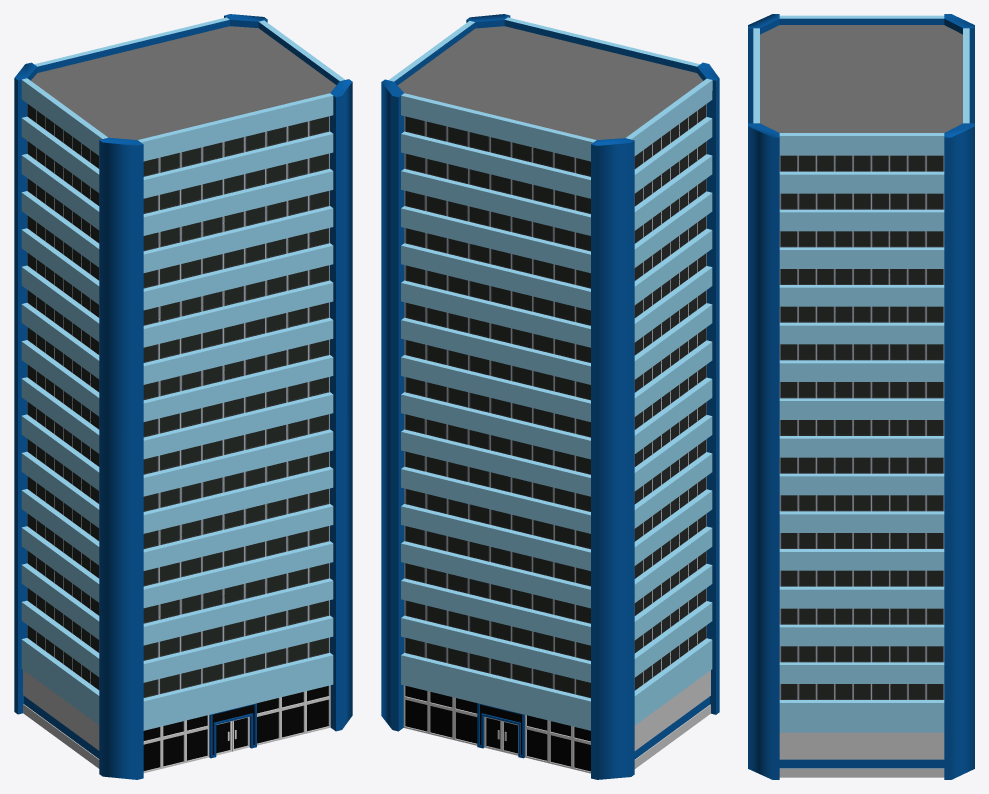
The picture shows the model from 3 angles, left to right: view 1: azimuth 30°, elevation 25°; view 2: azimuth 150°, elevation 25°; view 3: azimuth 270°, elevation 25°; orthographic projection.
Visible parts, largest first — view 1: BC-03; view 2: BC-03; view 3: BC-03.
Boxes of the visible parts, x1,y1,x2,y2 form: BC-03: (14, 14, 352, 779); BC-03: (381, 14, 719, 779); BC-03: (748, 14, 974, 779).
Size of what is drawn, in the model's own units: 21.06 by 51.09 by 16.34.
